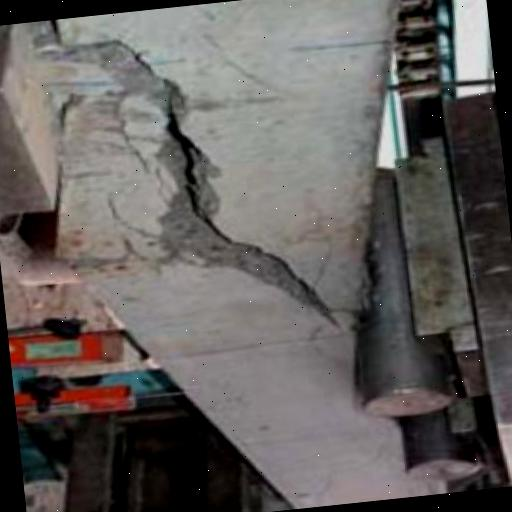spalling: (52, 39, 335, 330)
